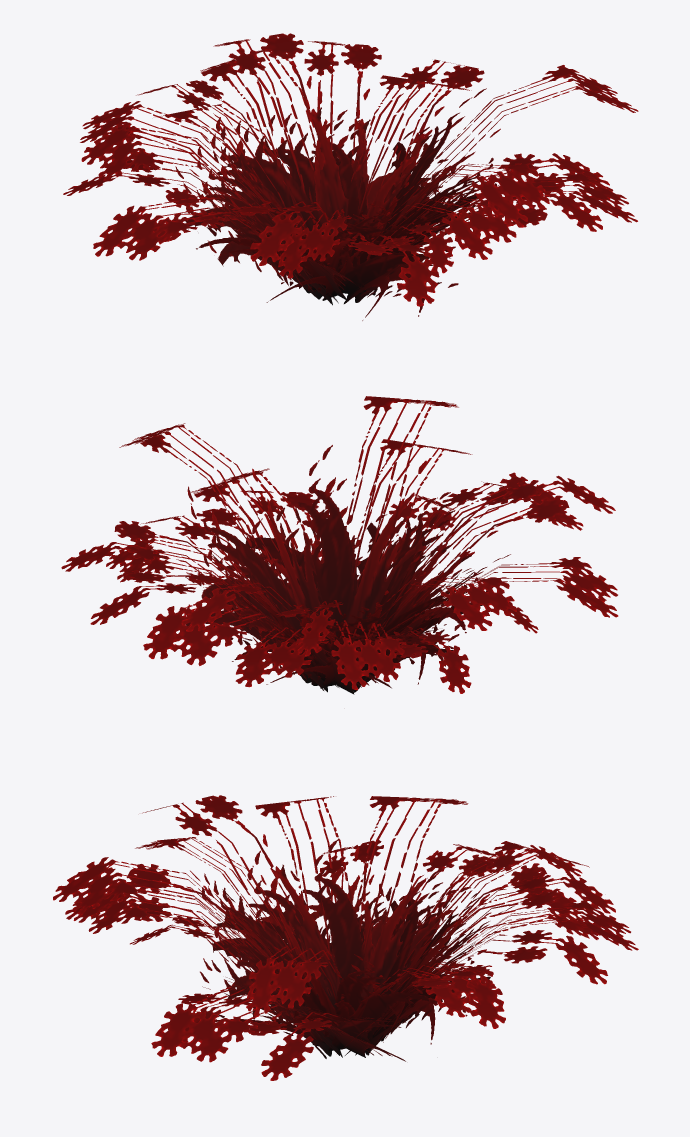
File: bush_beach_seaholly_a.glb
3 views of the same model, one above another, from view 1: azimuth 30°, elevation 25°; view 2: azimuth 150°, elevation 25°; view 3: azimuth 270°, elevation 25° (orthographic). The views are drawn at different scales.
Visible parts, largest first — view 1: bush_beach_seaholly_a; view 2: bush_beach_seaholly_a; view 3: bush_beach_seaholly_a.
Boxes of the visible parts, x1=… form: bush_beach_seaholly_a: x1=63, y1=33, x2=638, y2=320; bush_beach_seaholly_a: x1=61, y1=396, x2=618, y2=694; bush_beach_seaholly_a: x1=53, y1=795, x2=638, y2=1080.
Size of the model in its own units: 1.25 by 0.4663 by 1.22.
Materials: 1 (1 with a texture image).
